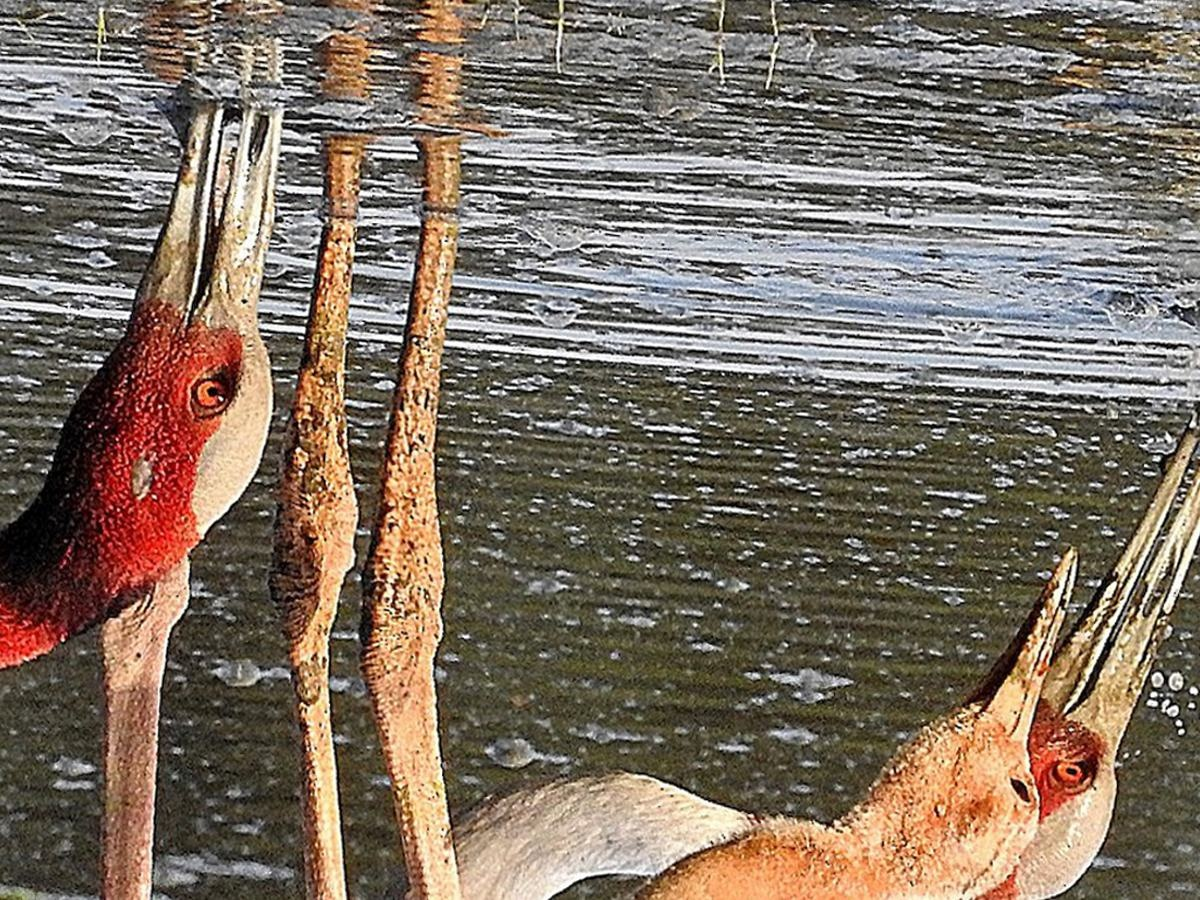crane: (403, 422, 1197, 900), (1, 95, 306, 695)
